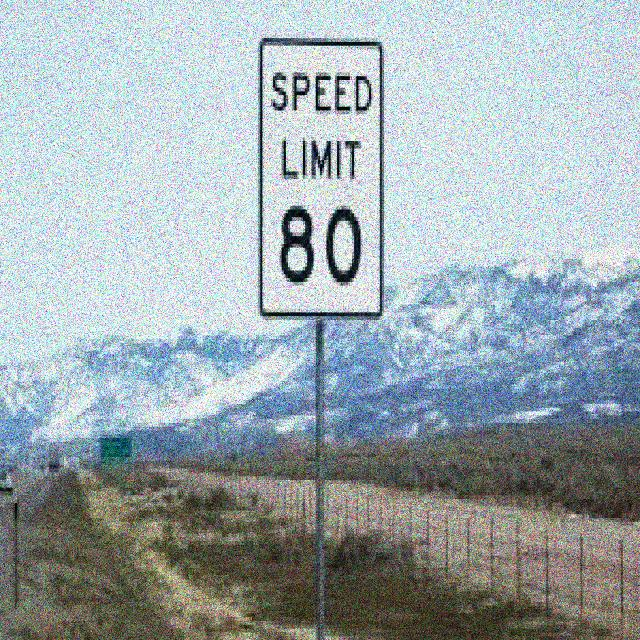speedLimit80: (259, 36, 383, 322)
